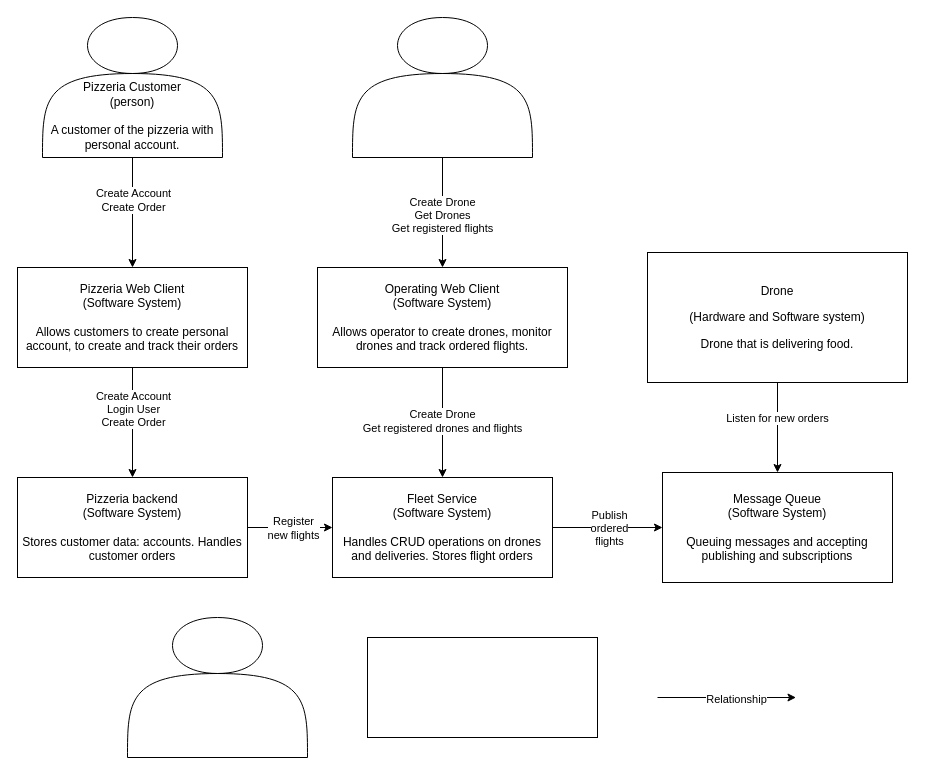
Some shapes in this 925 by 775 pixel diagram are drawn without their labels. The centre of each missing label's shape, as x and y in pixels:
Drone Operator (person) A drone operator: pixel 442 87
Person, Customer: pixel 217 687
Software and/or Hardware System: pixel 482 687
